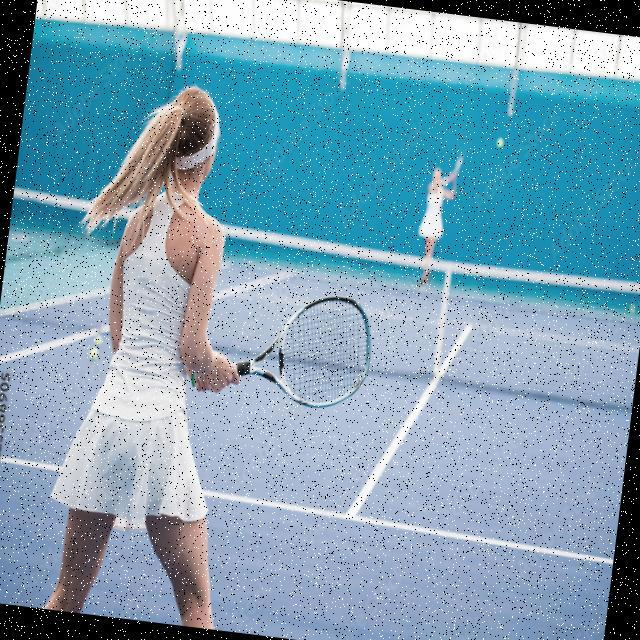net: (0, 176, 640, 427)
player: (33, 67, 409, 640)
